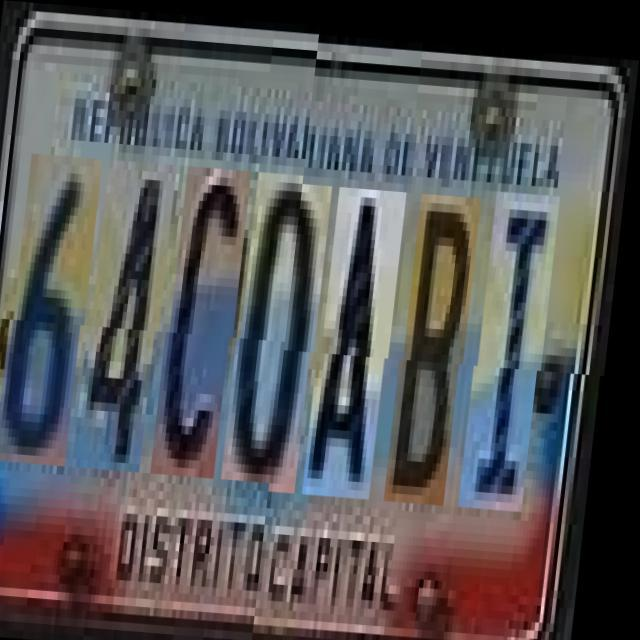4: (86, 166, 180, 478)
6: (8, 161, 104, 473)
A: (316, 180, 410, 492)
B: (398, 186, 484, 497)
C: (164, 170, 254, 482)
I: (472, 182, 564, 502)
O: (234, 175, 336, 488)
